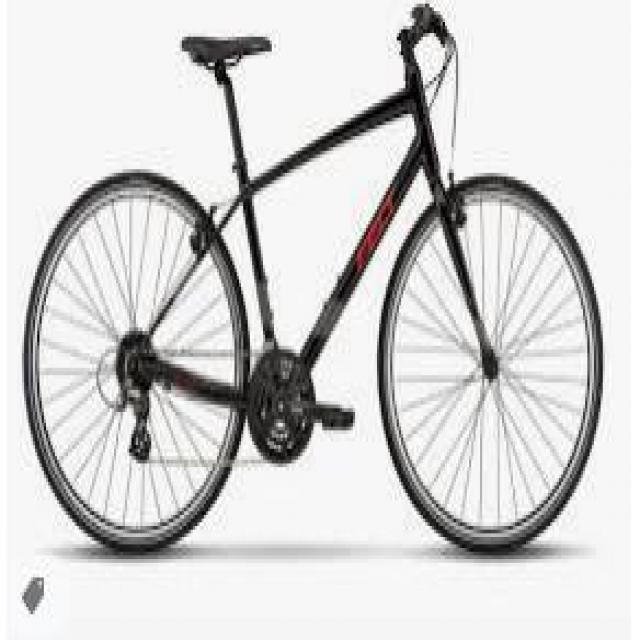bicycle: (45, 9, 611, 568)
